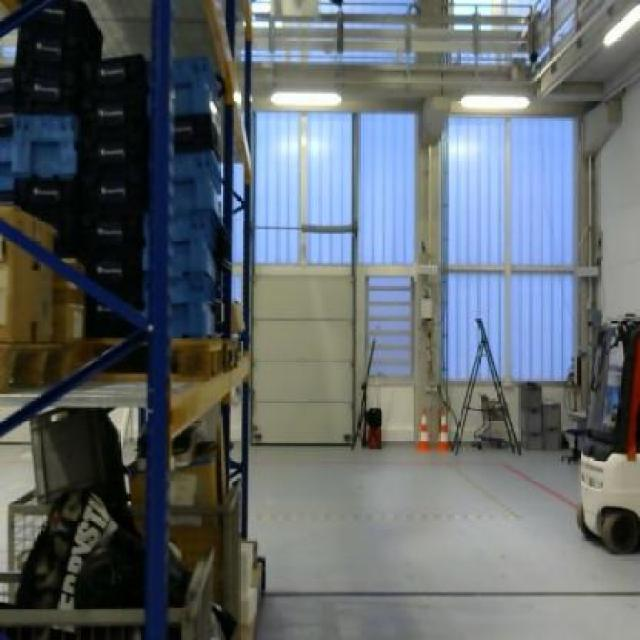box: (0, 207, 52, 346), (54, 258, 84, 344)
